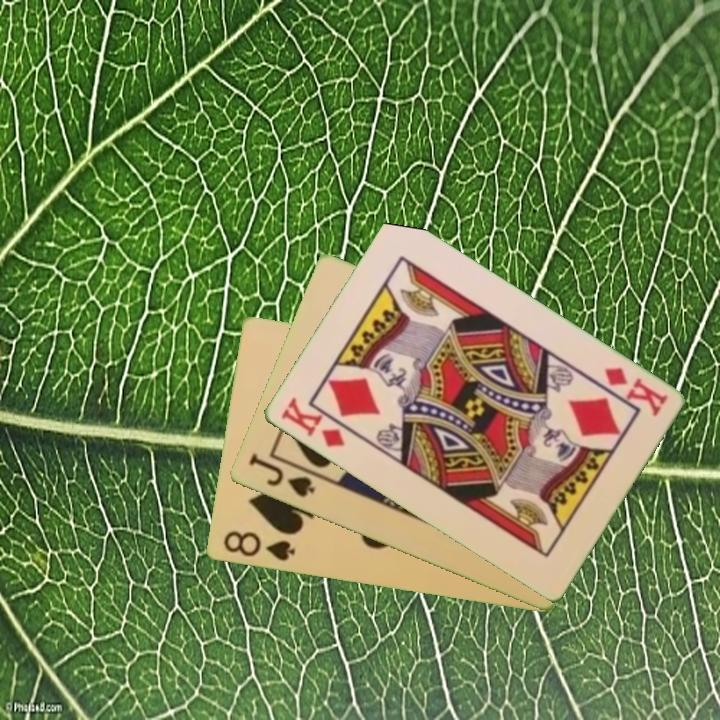8s: (219, 527, 298, 565)
Js: (244, 450, 318, 501)
Kd: (277, 394, 348, 451), (600, 363, 671, 420)
